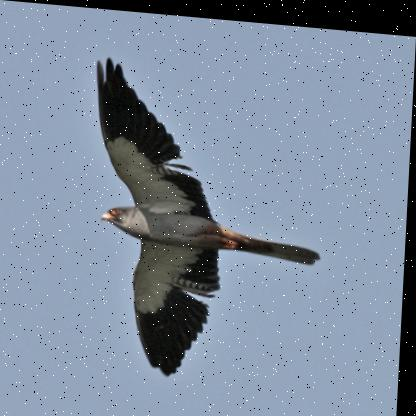Burung: (79, 55, 336, 389)
